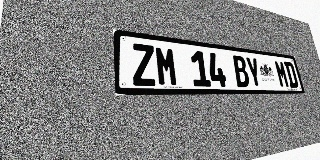1: (189, 50, 211, 87)
4: (206, 52, 227, 87)
B: (232, 55, 251, 87)
D: (284, 61, 299, 88)
M: (154, 46, 179, 86), (274, 60, 290, 88)
Y: (245, 57, 263, 87)
Z: (131, 43, 157, 86)
